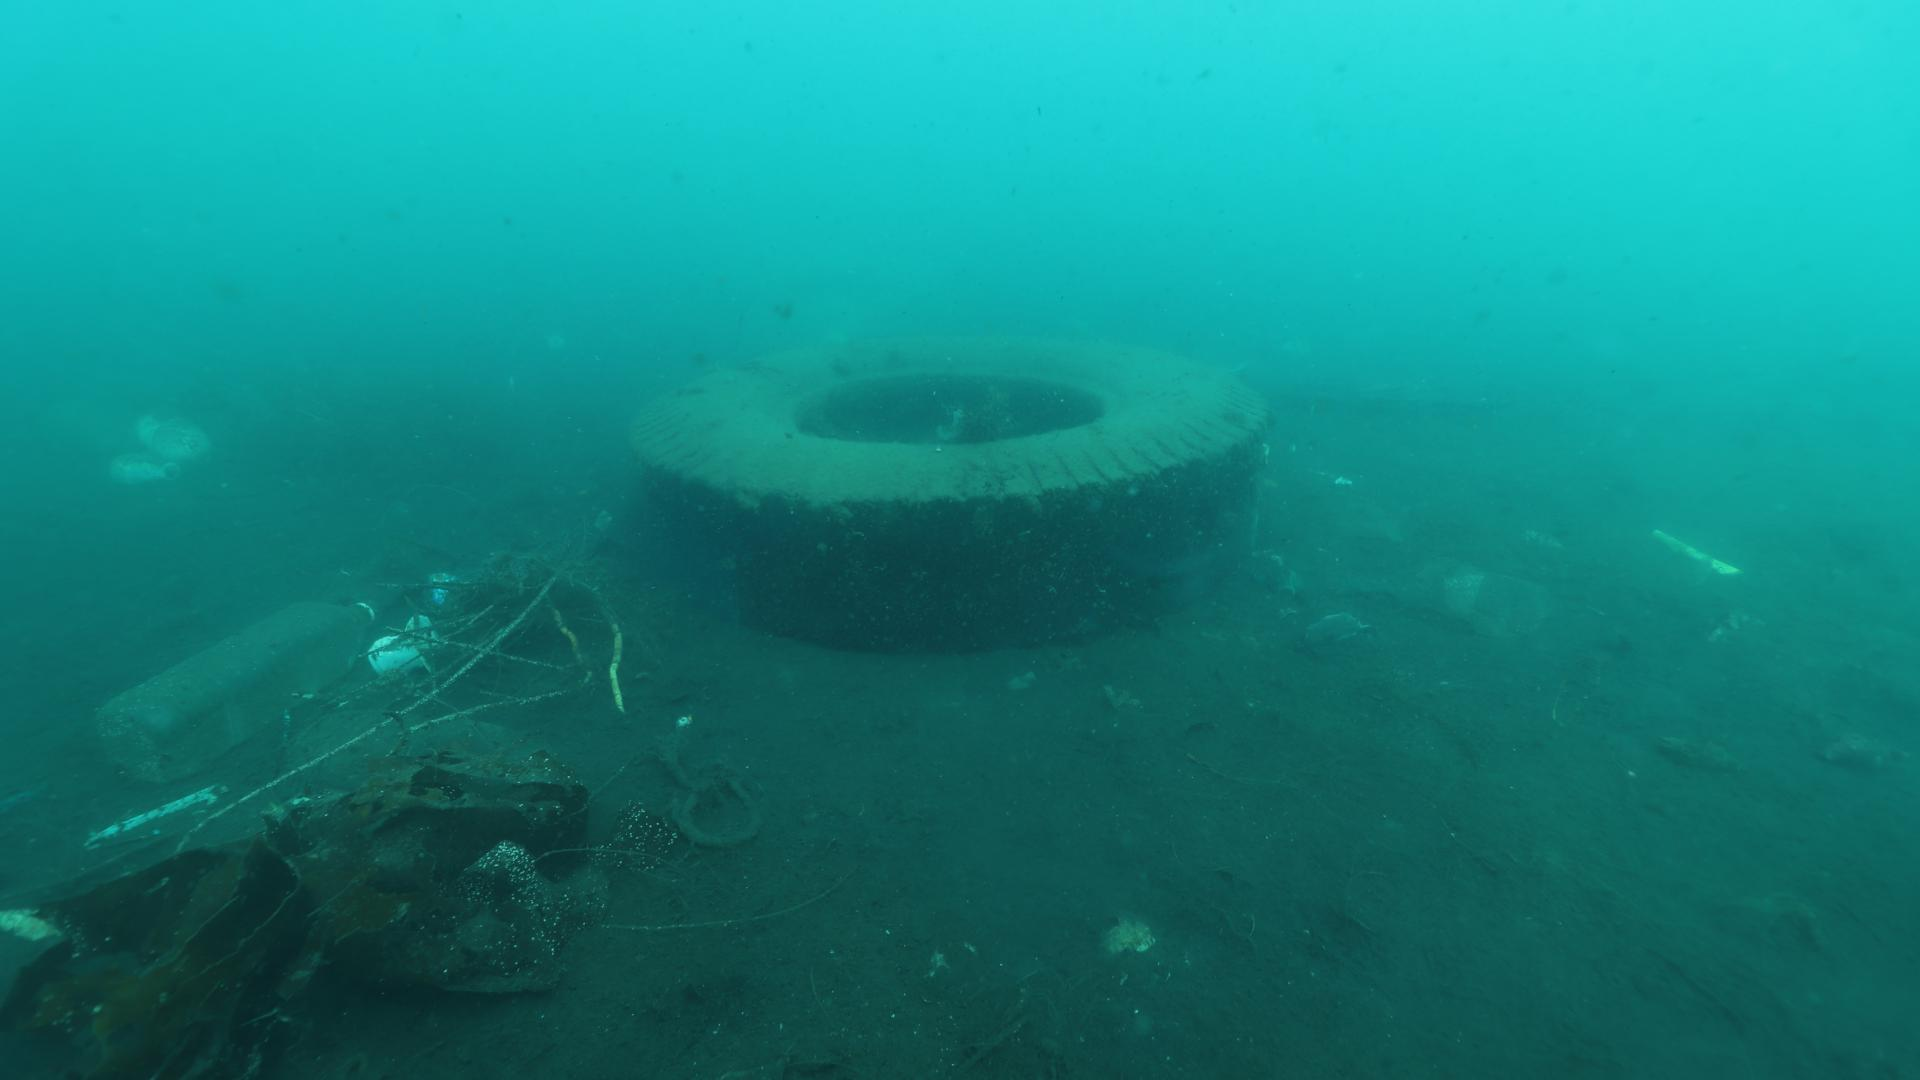tire: (622, 319, 1270, 654)
